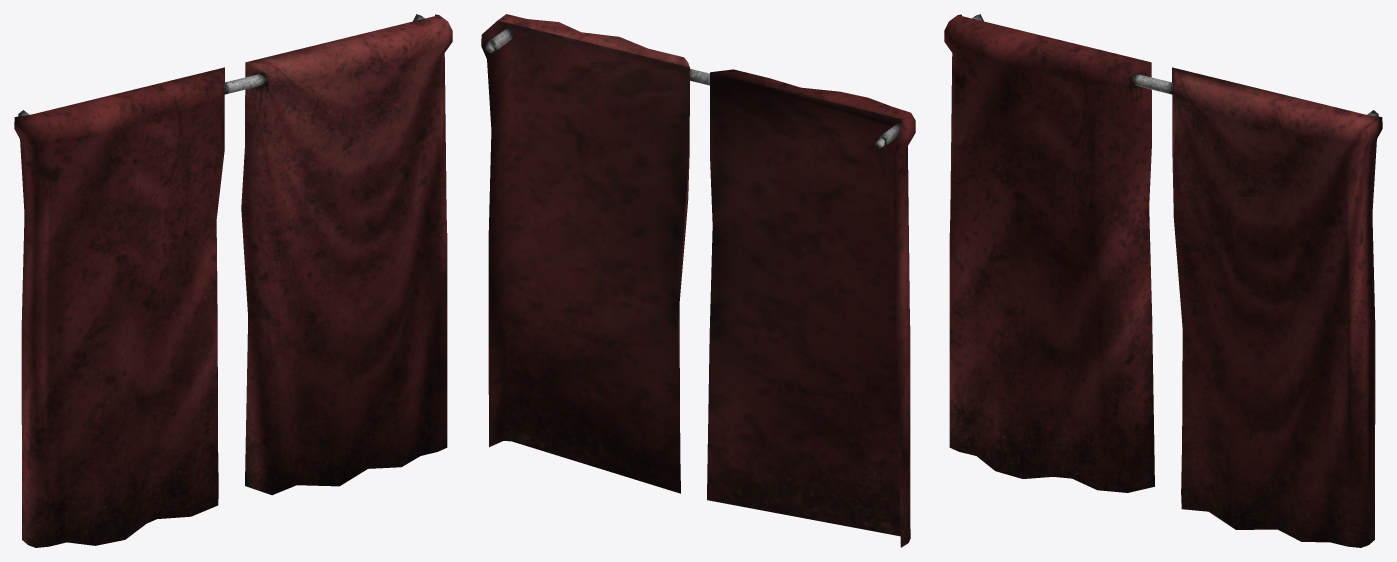
File: curtain01_closed.dae
3 renders of one model, left to right at view 1: azimuth 30°, elevation 25°; view 2: azimuth 150°, elevation 25°; view 3: azimuth 330°, elevation 25°, orthographic.
Visible parts, largest first — view 1: curtain01_closed; view 2: curtain01_closed; view 3: curtain01_closed.
Part boxes in pixels (x1,y1,x2,y2): curtain01_closed: (14, 14, 452, 547); curtain01_closed: (481, 14, 915, 547); curtain01_closed: (944, 14, 1382, 547).
Bounding box in the file's own units: 3.74 × 3.68 × 0.508.
